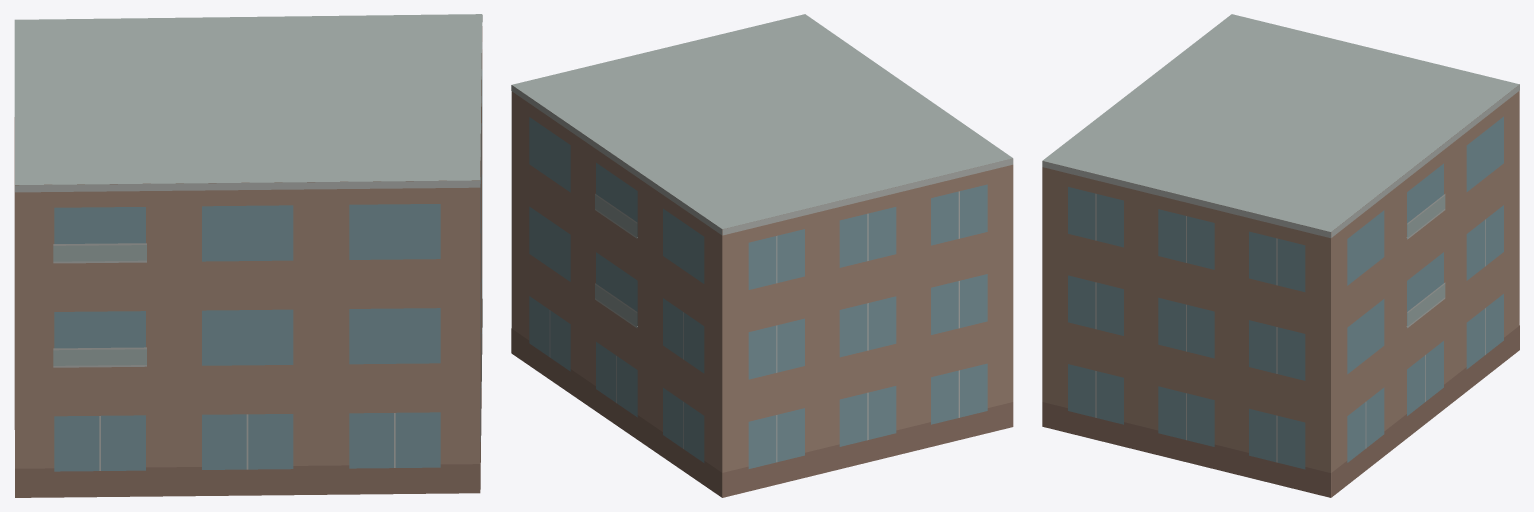
The model's file is survey-upis-32837871.glb.
3 renders of one model, left to right at view 1: azimuth 30°, elevation 25°; view 2: azimuth 150°, elevation 25°; view 3: azimuth 270°, elevation 25°, orthographic. The views are drawn at different scales.
Visible parts, largest first — view 1: survey-upis-32837871.tmp; view 2: survey-upis-32837871.tmp; view 3: survey-upis-32837871.tmp.
Part boxes in pixels (x1,y1,x2,y2): survey-upis-32837871.tmp: [14, 14, 482, 497]; survey-upis-32837871.tmp: [511, 14, 1013, 497]; survey-upis-32837871.tmp: [1042, 14, 1519, 497].
Size of the model in its own units: 18.31 by 10.4 by 16.94.
